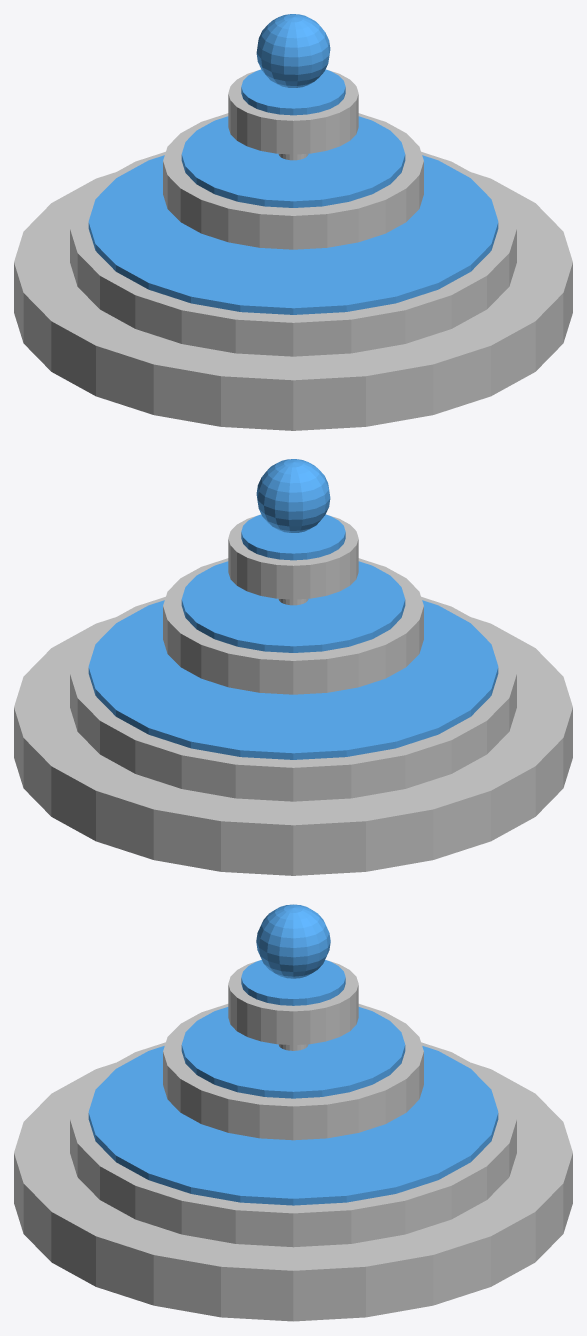
The model's file is fountain.glb.
3 views of the same model, one above another, from view 1: azimuth 30°, elevation 25°; view 2: azimuth 150°, elevation 25°; view 3: azimuth 270°, elevation 25° (orthographic).
Visible parts, largest first — view 1: Fountain; view 2: Fountain; view 3: Fountain.
Part boxes in pixels (box(x1,y1,x2,y2)): Fountain: box(14, 14, 572, 430); Fountain: box(14, 459, 572, 875); Fountain: box(14, 904, 572, 1321).
Bounding box in the file's own units: 3 × 1.75 × 3.
